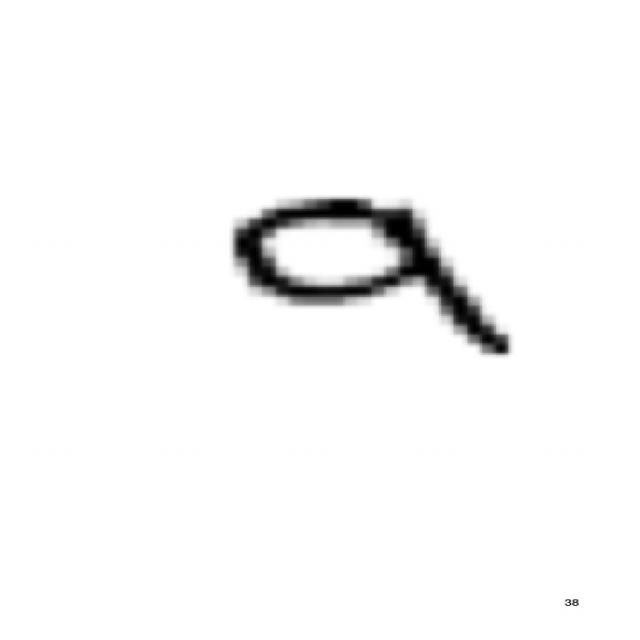9 -nine-: (207, 181, 529, 366)
